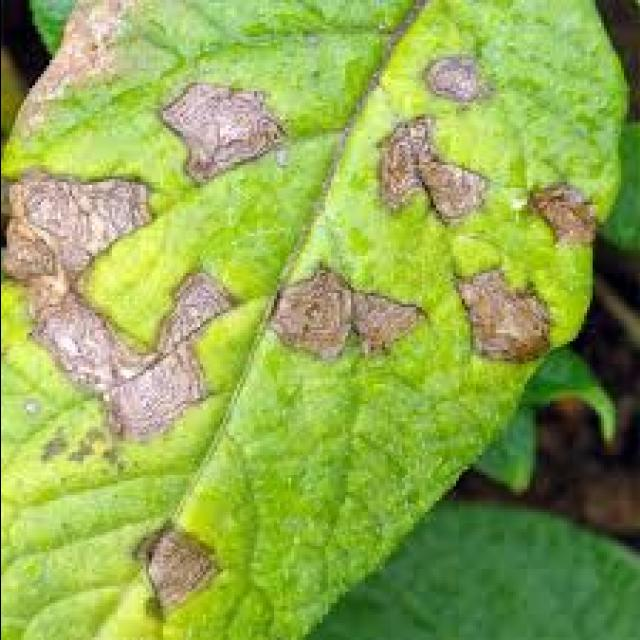bercak_daun: (0, 36, 596, 476)
